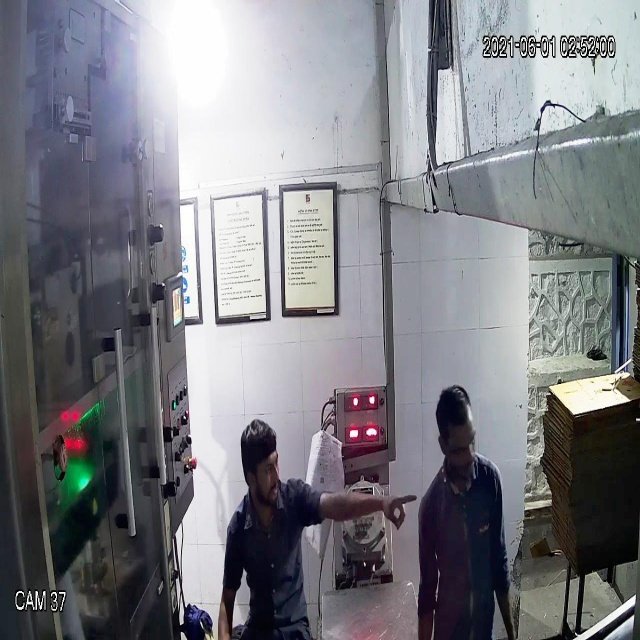Sin_gafas: (242, 449, 280, 483)
